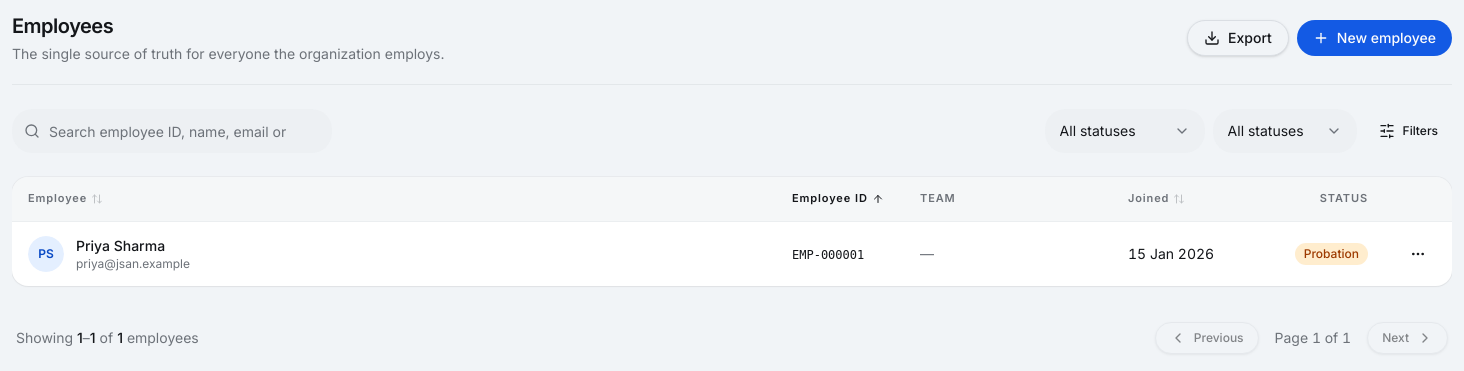
Test: EmployeeListPage › offers both export formats
What coordinates should you click on to do the following:
click the button "Export"
I would click on:
 (1238, 38)
Its box is [1187,20,1289,56].
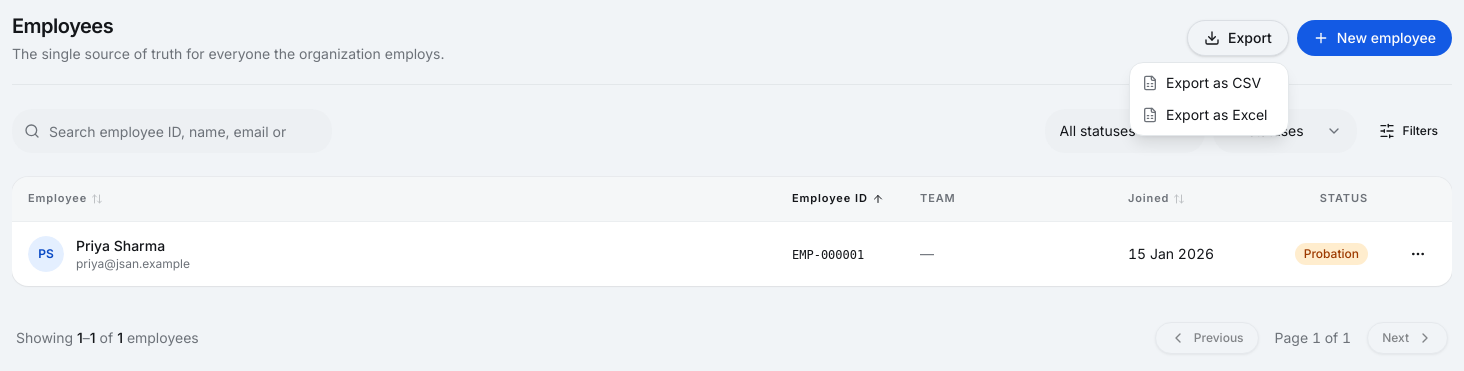
expect the menu item "Export as CSV" is shown: met, box [1142,74,1261,91]
expect the menu item "Export as Excel" is shown: met, box [1142,106,1268,123]
